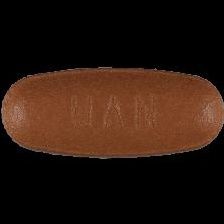0078-0383: (0, 0, 224, 224)
